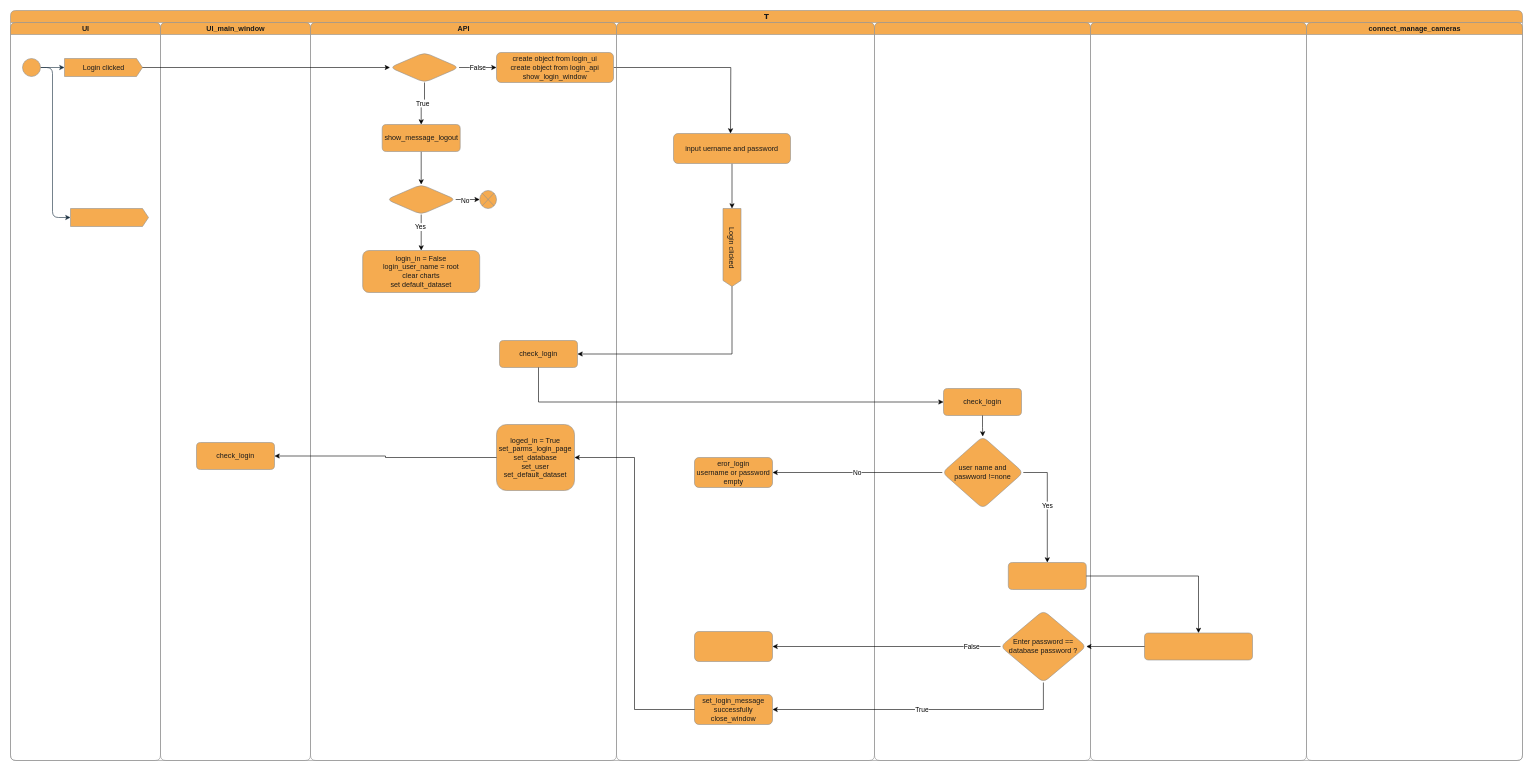
Some shapes in this 1533 by 771 pixel diagram are drawn without their labels. The box of each missing label's shape, as (x1, y1, x2, y2) in pixels:
database: (1090, 22, 1306, 760)
eror_login password eror: (694, 631, 772, 662)
Loged_in ?: (389, 52, 459, 82)
login_api: (874, 22, 1090, 760)
login_ui: (616, 22, 874, 760)
Logout?: (386, 184, 456, 214)
search user: (1008, 562, 1086, 590)
search user name return password of user: (1144, 632, 1252, 660)
Sensor True: (70, 208, 148, 226)
